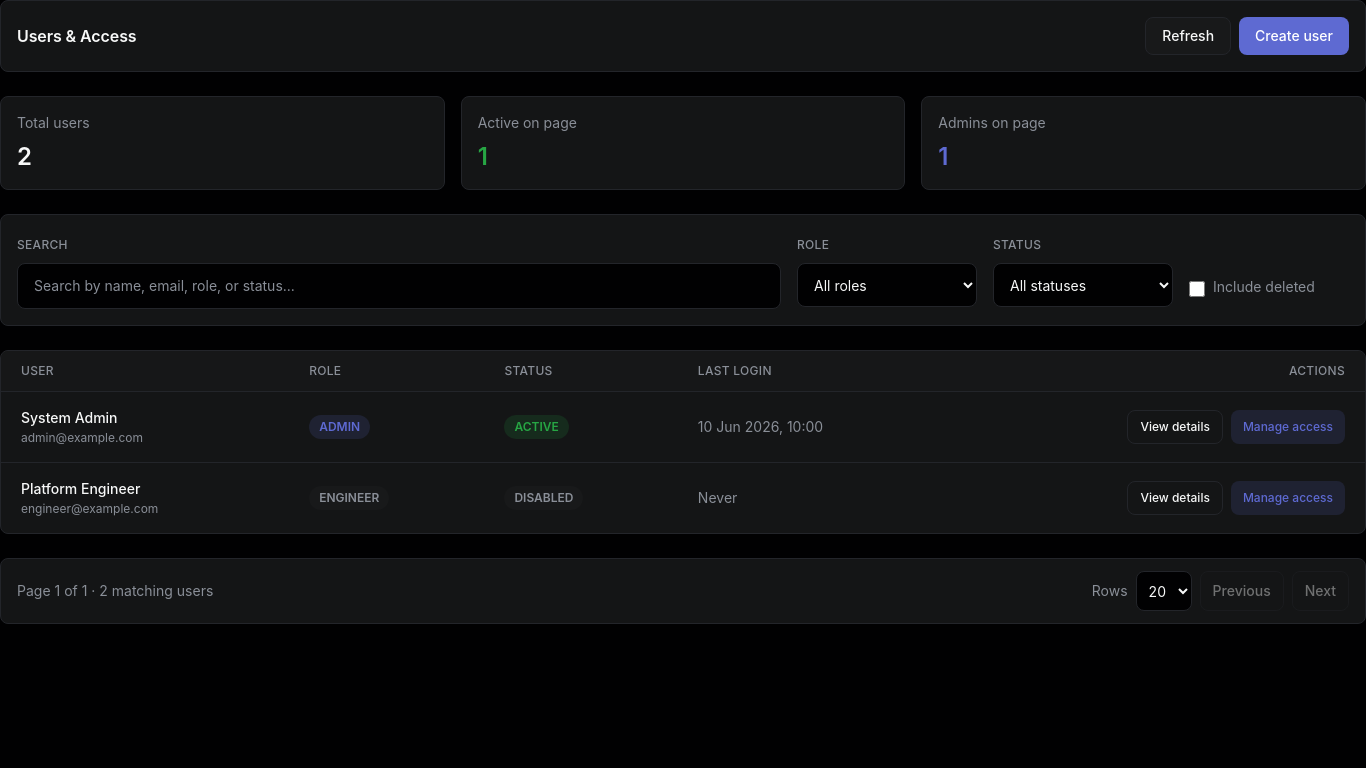
UserAccessPage › loads users and filters by identity
expect the text "System Admin" is shown: met, box [21,409,118,426]
expect the text "Platform Engineer" is shown: met, box [21,480,140,497]
Type "admin@example" into the field named "Search users" at (399, 286), box [17,263,781,309]
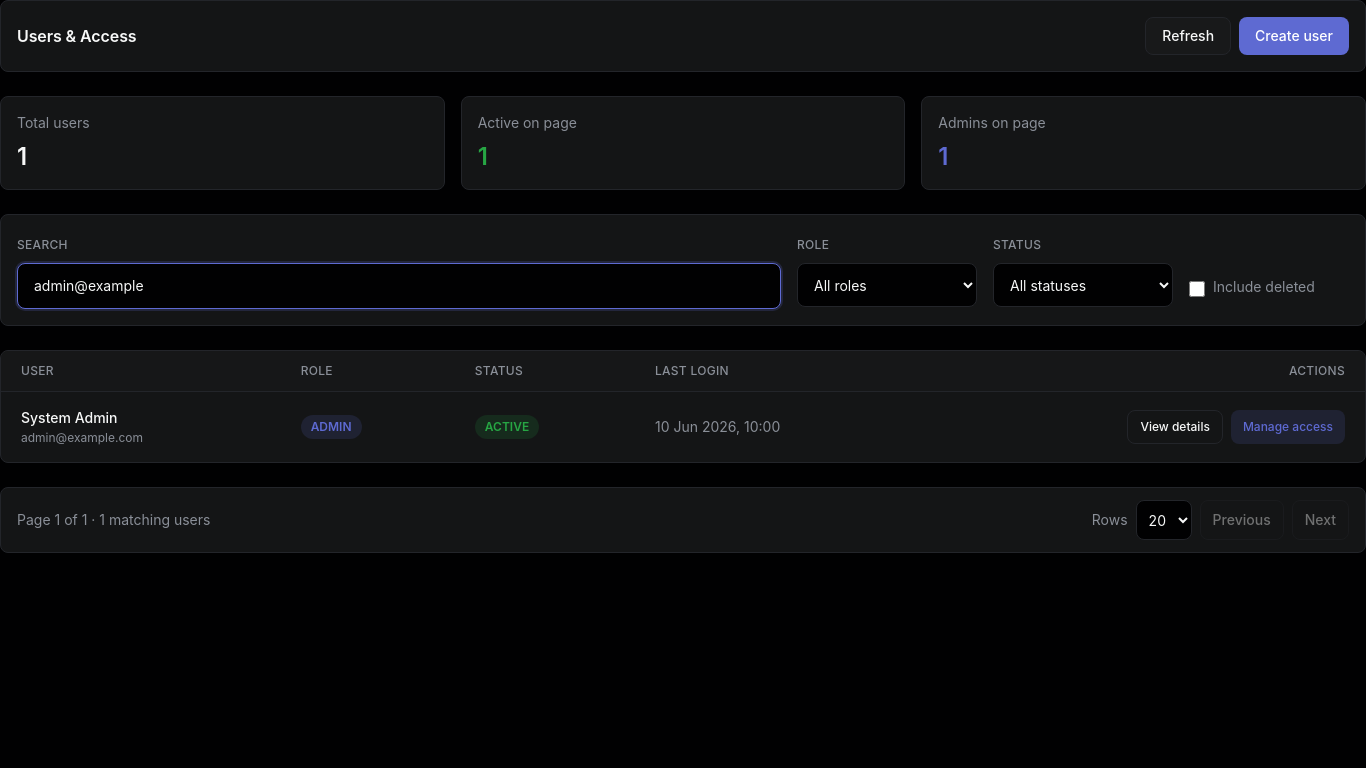
expect the text "System Admin" is shown: met, box [21,409,118,426]
expect the text "Platform Engineer" is gone: met
